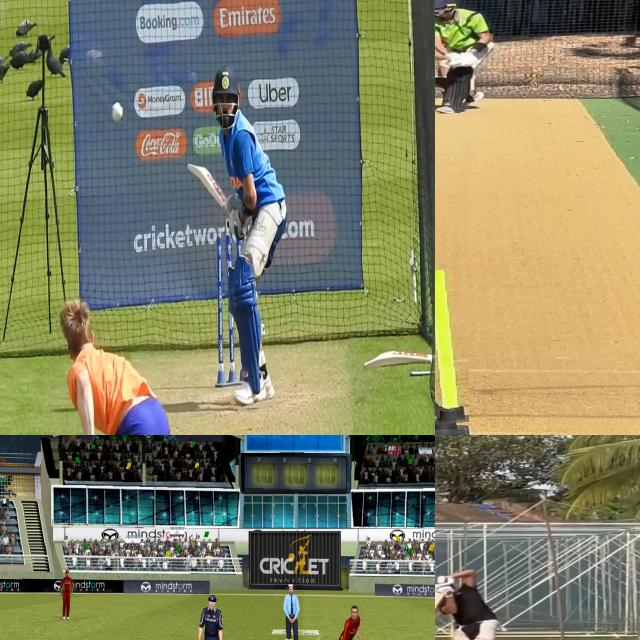Cricket ball: (110, 98, 123, 128)
Stumps: (435, 270, 469, 432)
